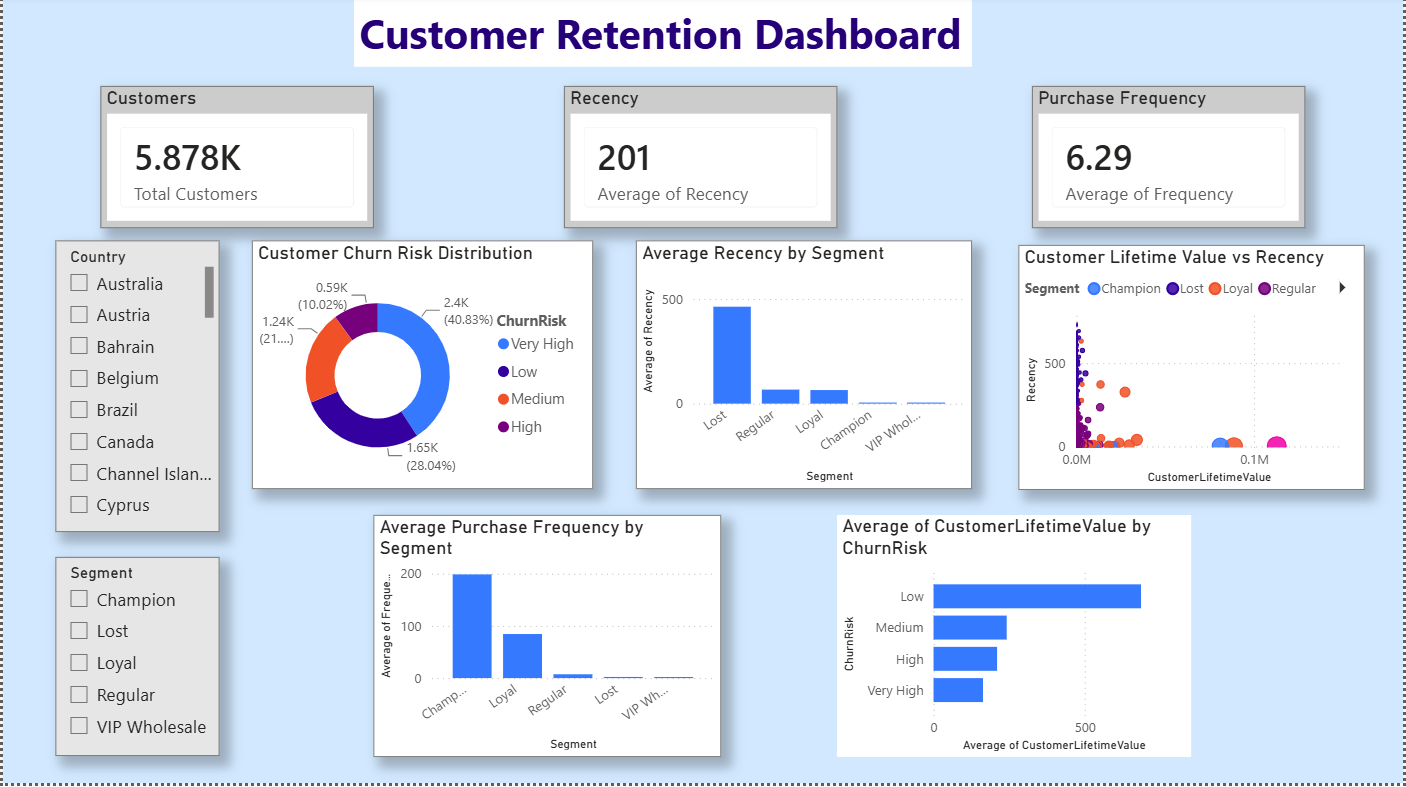

Layout of this report page (visuals, bound fields, positions):
{"tool":"powerbi","page":{"name":"Retention Dashboard","canvas":[1280,720],"ordinal":2},"visuals":[{"type":"cardVisual","title":"Customers","fields":{"Data":["Count(customer_segments.CustomerID)"]},"box":[89.4,81.8,250,130.3],"z":0},{"type":"cardVisual","title":"Recency ","fields":{"Data":["Avg(customer_segments.Recency)"]},"box":[513.6,81.8,250,130.3],"z":1000},{"type":"cardVisual","title":"Purchase Frequency","fields":{"Data":["Avg(customer_segments.Frequency)"]},"box":[940.9,81.8,250,130.3],"z":2000},{"type":"donutChart","title":"Customer Churn Risk Distribution","fields":{"Y":["CountNonNull(customer_segments.CustomerID)"],"Category":["customer_segments.ChurnRisk"]},"box":[227.3,224.2,312.1,227.3],"z":4000},{"type":"clusteredColumnChart","title":"Average Purchase Frequency by Segment","fields":{"Category":["customer_segments.Segment"],"Y":["Avg(customer_segments.Frequency)"]},"box":[339.4,474.2,318.2,221.2],"z":5000},{"type":"clusteredColumnChart","title":"Average Recency by Segment","fields":{"Category":["customer_segments.Segment"],"Y":["Avg(customer_segments.Recency)"]},"box":[578.8,224.2,307.6,227.3],"z":6000},{"type":"textbox","box":[321.2,3,565.2,62.1],"z":7000},{"type":"slicer","fields":{"Values":["customer_segments.Country"]},"box":[48.5,224.2,150,266.7],"z":8000},{"type":"slicer","fields":{"Values":["customer_segments.Segment"]},"box":[48.5,513.6,150,181.8],"z":9000},{"type":"scatterChart","title":"Customer Lifetime Value vs Recency","fields":{"Y":["Avg(customer_segments.Recency)"],"Series":["customer_segments.Segment"],"Size":["Avg(customer_segments.CustomerLifetimeValue)"],"X":["Avg(customer_segments.CustomerLifetimeValue)"],"Category":["customer_segments.CustomerID"]},"box":[928.8,227.3,316.7,224.2],"z":10000},{"type":"barChart","fields":{"Category":["customer_segments.ChurnRisk"],"Y":["Avg(customer_segments.CustomerLifetimeValue)"]},"box":[763.6,474.2,324.2,221.2],"z":10001}]}

Visuals, with their boxes in screenshot pixels (x1, y1, x2, y2), scaled from the page's 1280x720 canvas onto the 1406x787 screenshot:
"Customers" cardVisual: [left=98, top=89, right=373, bottom=232]
"Recency " cardVisual: [left=564, top=89, right=839, bottom=232]
"Purchase Frequency" cardVisual: [left=1034, top=89, right=1308, bottom=232]
"Customer Churn Risk Distribution" donutChart: [left=250, top=245, right=592, bottom=494]
"Average Purchase Frequency by Segment" clusteredColumnChart: [left=373, top=518, right=722, bottom=760]
"Average Recency by Segment" clusteredColumnChart: [left=636, top=245, right=974, bottom=494]
textbox: [left=353, top=3, right=974, bottom=71]
slicer - customer_segments.Country: [left=53, top=245, right=218, bottom=537]
slicer - customer_segments.Segment: [left=53, top=561, right=218, bottom=760]
"Customer Lifetime Value vs Recency" scatterChart: [left=1020, top=248, right=1368, bottom=494]
barChart - customer_segments.ChurnRisk x Avg(customer_segments.CustomerLifetimeValue): [left=839, top=518, right=1195, bottom=760]
